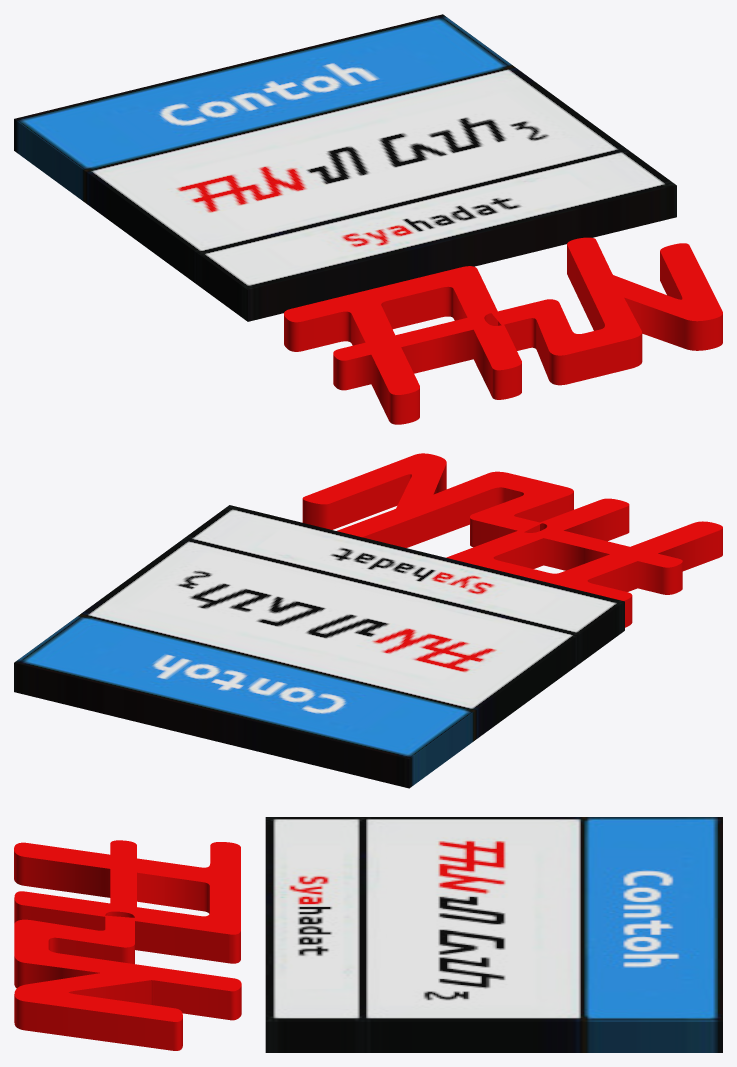
Rendered from sya.fbx.
The picture shows the model from 3 angles, top to bottom: view 1: azimuth 30°, elevation 25°; view 2: azimuth 150°, elevation 25°; view 3: azimuth 270°, elevation 25°; orthographic projection. The views are drawn at different scales.
Visible parts, largest first — view 1: contoh-bunyi-huruf-sya-Ngalagena, Text; view 2: contoh-bunyi-huruf-sya-Ngalagena, Text; view 3: contoh-bunyi-huruf-sya-Ngalagena, Text.
Boxes of the visible parts, x1,y1,x2,y2 form: contoh-bunyi-huruf-sya-Ngalagena: [14, 14, 676, 321]; Text: [284, 237, 722, 424]; contoh-bunyi-huruf-sya-Ngalagena: [14, 505, 624, 788]; Text: [302, 453, 722, 627]; contoh-bunyi-huruf-sya-Ngalagena: [265, 817, 722, 1052]; Text: [14, 840, 241, 1050].
Bounding box in the file's own units: 1.06 × 0.11 × 1.55.
2 materials, 1 textured.
